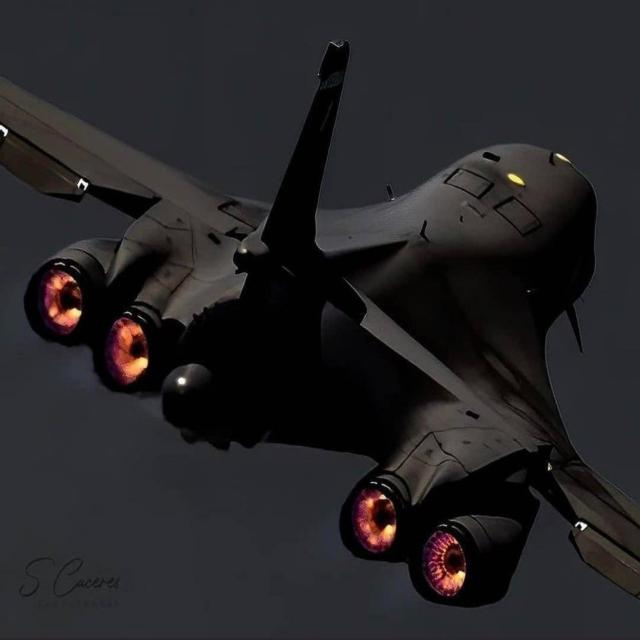B1: (0, 17, 640, 625)
